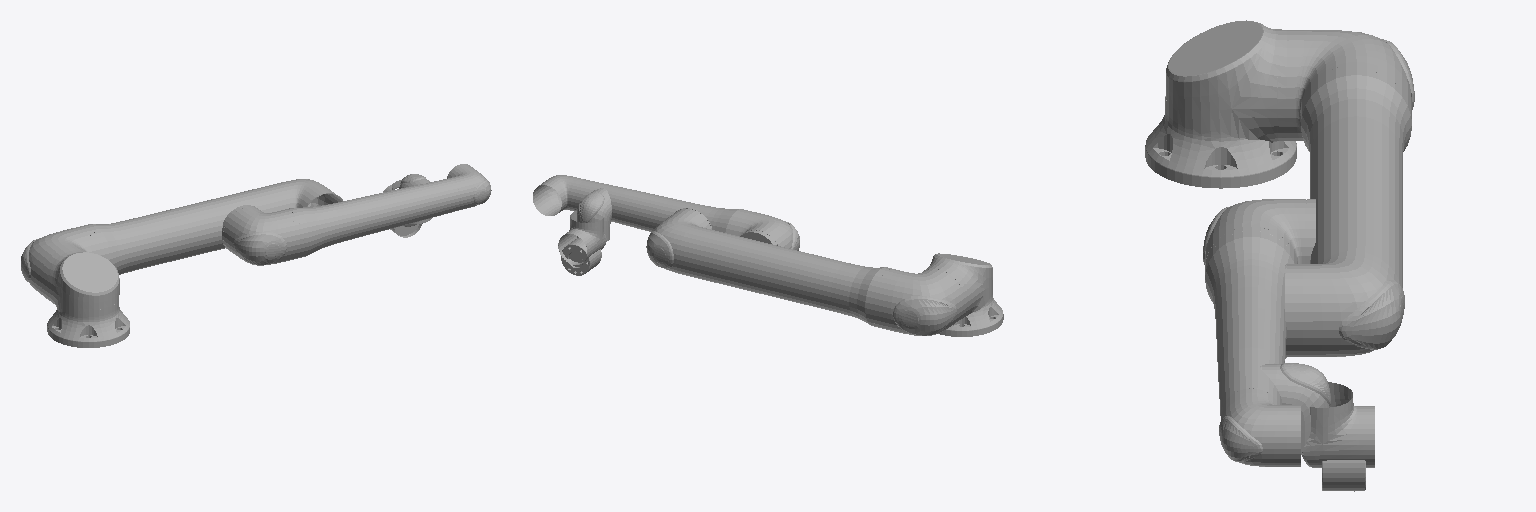
robot.urdf — ur10_robot:
<?xml version="1.0" ?>
<!-- =================================================================================== -->
<!-- |    This document was autogenerated by xacro from ur10.xacro                     | -->
<!-- |    EDITING THIS FILE BY HAND IS NOT RECOMMENDED                                 | -->
<!-- =================================================================================== -->
<robot name="ur10_robot">
  <!--
    Base UR robot series xacro macro.

    NOTE: this is NOT a URDF. It cannot directly be loaded by consumers
    expecting a flattened '.urdf' file. See the top-level '.xacro' for that
    (but note: that .xacro must still be processed by the xacro command).

    For use in '.launch' files: use one of the 'load_urX.launch' convenience
    launch files.

    This file models the base kinematic chain of a UR robot, which then gets
    parameterised by various configuration files to convert it into a UR3(e),
    UR5(e), UR10(e) or UR16e.

    NOTE: the default kinematic parameters (ie: link lengths, frame locations,
    offets, etc) do not correspond to any particular robot. They are defaults
    only. There WILL be non-zero offsets between the Forward Kinematics results
    in TF (ie: robot_state_publisher) and the values reported by the Teach
    Pendant.

    For accurate (and robot-specific) transforms, the 'kinematics_parameters_file'
    parameter MUST point to a .yaml file containing the appropriate values for
    the targetted robot.

    If using the UniversalRobots/Universal_Robots_ROS_Driver, follow the steps
    described in the readme of that repository to extract the kinematic
    calibration from the controller and generate the required .yaml file.

    Main author of the migration to yaml configs: Ludovic Delval.

    Contributors to previous versions (in no particular order):

     - Felix Messmer
     - Kelsey Hawkins
     - Wim Meeussen
     - Shaun Edwards
     - Nadia Hammoudeh Garcia
     - Dave Hershberger
     - G. vd. Hoorn
     - Philip Long
     - Dave Coleman
     - Miguel Prada
     - Mathias Luedtke
     - Marcel Schnirring
     - Felix von Drigalski
     - Felix Exner
     - Jimmy Da Silva
     - Ajit Krisshna N L
     - Muhammad Asif Rana
  -->
  <!--
    NOTE: the macro defined in this file is NOT part of the public API of this
          package. Users CANNOT rely on this file being available, or stored in
          this location. Nor can they rely on the existence of the macro.
  -->
  <transmission name="shoulder_pan_trans">
    <type>transmission_interface/SimpleTransmission</type>
    <joint name="shoulder_pan_joint">
      <hardwareInterface>hardware_interface/PositionJointInterface</hardwareInterface>
    </joint>
    <actuator name="shoulder_pan_motor">
      <mechanicalReduction>1</mechanicalReduction>
    </actuator>
  </transmission>
  <transmission name="shoulder_lift_trans">
    <type>transmission_interface/SimpleTransmission</type>
    <joint name="shoulder_lift_joint">
      <hardwareInterface>hardware_interface/PositionJointInterface</hardwareInterface>
    </joint>
    <actuator name="shoulder_lift_motor">
      <mechanicalReduction>1</mechanicalReduction>
    </actuator>
  </transmission>
  <transmission name="elbow_trans">
    <type>transmission_interface/SimpleTransmission</type>
    <joint name="elbow_joint">
      <hardwareInterface>hardware_interface/PositionJointInterface</hardwareInterface>
    </joint>
    <actuator name="elbow_motor">
      <mechanicalReduction>1</mechanicalReduction>
    </actuator>
  </transmission>
  <transmission name="wrist_1_trans">
    <type>transmission_interface/SimpleTransmission</type>
    <joint name="wrist_1_joint">
      <hardwareInterface>hardware_interface/PositionJointInterface</hardwareInterface>
    </joint>
    <actuator name="wrist_1_motor">
      <mechanicalReduction>1</mechanicalReduction>
    </actuator>
  </transmission>
  <transmission name="wrist_2_trans">
    <type>transmission_interface/SimpleTransmission</type>
    <joint name="wrist_2_joint">
      <hardwareInterface>hardware_interface/PositionJointInterface</hardwareInterface>
    </joint>
    <actuator name="wrist_2_motor">
      <mechanicalReduction>1</mechanicalReduction>
    </actuator>
  </transmission>
  <transmission name="wrist_3_trans">
    <type>transmission_interface/SimpleTransmission</type>
    <joint name="wrist_3_joint">
      <hardwareInterface>hardware_interface/PositionJointInterface</hardwareInterface>
    </joint>
    <actuator name="wrist_3_motor">
      <mechanicalReduction>1</mechanicalReduction>
    </actuator>
  </transmission>
  <!-- links: main serial chain -->
  <link name="base_link"/>
  <link name="base_link_inertia">
    <visual>
      <origin rpy="0 0 3.141592653589793" xyz="0 0 0"/>
      <geometry>
        <mesh filename="package://example-robot-data/robots/universal_robots/meshes_description/ur10/visual/base.dae"/>
      </geometry>
      <material name="LightGrey">
        <color rgba="0.7 0.7 0.7 1.0"/>
      </material>
    </visual>
    <collision>
      <origin rpy="0 0 3.141592653589793" xyz="0 0 0"/>
      <geometry>
        <mesh filename="package://example-robot-data/robots/universal_robots/meshes_description/ur10/collision/base.stl"/>
      </geometry>
    </collision>
    <inertial>
      <mass value="4.0"/>
      <origin rpy="0 0 0" xyz="0 0 0"/>
      <inertia ixx="0.0061063308908" ixy="0.0" ixz="0.0" iyy="0.0061063308908" iyz="0.0" izz="0.01125"/>
    </inertial>
  </link>
  <link name="shoulder_link">
    <visual>
      <origin rpy="0 0 3.141592653589793" xyz="0 0 0"/>
      <geometry>
        <mesh filename="package://example-robot-data/robots/universal_robots/meshes_description/ur10/visual/shoulder.dae"/>
      </geometry>
      <material name="LightGrey">
        <color rgba="0.7 0.7 0.7 1.0"/>
      </material>
    </visual>
    <collision>
      <origin rpy="0 0 3.141592653589793" xyz="0 0 0"/>
      <geometry>
        <mesh filename="package://example-robot-data/robots/universal_robots/meshes_description/ur10/collision/shoulder.stl"/>
      </geometry>
    </collision>
    <inertial>
      <mass value="7.778"/>
      <origin rpy="0 0 0" xyz="0 0 0"/>
      <inertia ixx="0.03147431257693659" ixy="0.0" ixz="0.0" iyy="0.03147431257693659" iyz="0.0" izz="0.021875624999999996"/>
    </inertial>
  </link>
  <link name="upper_arm_link">
    <visual>
      <origin rpy="1.5707963267948966 0 -1.5707963267948966" xyz="0 0 0.220941"/>
      <geometry>
        <mesh filename="package://example-robot-data/robots/universal_robots/meshes_description/ur10/visual/upperarm.dae"/>
      </geometry>
      <material name="LightGrey">
        <color rgba="0.7 0.7 0.7 1.0"/>
      </material>
    </visual>
    <collision>
      <origin rpy="1.5707963267948966 0 -1.5707963267948966" xyz="0 0 0.220941"/>
      <geometry>
        <mesh filename="package://example-robot-data/robots/universal_robots/meshes_description/ur10/collision/upperarm.stl"/>
      </geometry>
    </collision>
    <inertial>
      <mass value="12.93"/>
      <origin rpy="0 1.5707963267948966 0" xyz="-0.306 0.0 0.175"/>
      <inertia ixx="0.42175380379841093" ixy="0.0" ixz="0.0" iyy="0.42175380379841093" iyz="0.0" izz="0.03636562499999999"/>
    </inertial>
  </link>
  <link name="forearm_link">
    <visual>
      <origin rpy="1.5707963267948966 0 -1.5707963267948966" xyz="0 0 0.049042"/>
      <geometry>
        <mesh filename="package://example-robot-data/robots/universal_robots/meshes_description/ur10/visual/forearm.dae"/>
      </geometry>
      <material name="LightGrey">
        <color rgba="0.7 0.7 0.7 1.0"/>
      </material>
    </visual>
    <collision>
      <origin rpy="1.5707963267948966 0 -1.5707963267948966" xyz="0 0 0.049042"/>
      <geometry>
        <mesh filename="package://example-robot-data/robots/universal_robots/meshes_description/ur10/collision/forearm.stl"/>
      </geometry>
    </collision>
    <inertial>
      <mass value="3.87"/>
      <origin rpy="0 1.5707963267948966 0" xyz="-0.28615 0.0 0.049042"/>
      <inertia ixx="0.11106969409710458" ixy="0.0" ixz="0.0" iyy="0.11106969409710458" iyz="0.0" izz="0.010884375"/>
    </inertial>
  </link>
  <link name="wrist_1_link">
    <visual>
      <!-- TODO: Move this to a parameter -->
      <origin rpy="1.5707963267948966 0 0" xyz="0 0 -0.1149"/>
      <geometry>
        <mesh filename="package://example-robot-data/robots/universal_robots/meshes_description/ur10/visual/wrist1.dae"/>
      </geometry>
      <material name="LightGrey">
        <color rgba="0.7 0.7 0.7 1.0"/>
      </material>
    </visual>
    <collision>
      <origin rpy="1.5707963267948966 0 0" xyz="0 0 -0.1149"/>
      <geometry>
        <mesh filename="package://example-robot-data/robots/universal_robots/meshes_description/ur10/collision/wrist1.stl"/>
      </geometry>
    </collision>
    <inertial>
      <mass value="1.96"/>
      <origin rpy="0 0 0" xyz="0 0 0"/>
      <inertia ixx="0.005108247956699999" ixy="0.0" ixz="0.0" iyy="0.005108247956699999" iyz="0.0" izz="0.005512499999999999"/>
    </inertial>
  </link>
  <link name="wrist_2_link">
    <visual>
      <origin rpy="0 0 0" xyz="0 0 -0.1158"/>
      <geometry>
        <mesh filename="package://example-robot-data/robots/universal_robots/meshes_description/ur10/visual/wrist2.dae"/>
      </geometry>
      <material name="LightGrey">
        <color rgba="0.7 0.7 0.7 1.0"/>
      </material>
    </visual>
    <collision>
      <origin rpy="0 0 0" xyz="0 0 -0.1158"/>
      <geometry>
        <mesh filename="package://example-robot-data/robots/universal_robots/meshes_description/ur10/collision/wrist2.stl"/>
      </geometry>
    </collision>
    <inertial>
      <mass value="1.96"/>
      <origin rpy="0 0 0" xyz="0 0 0"/>
      <inertia ixx="0.0040792483683" ixy="0.0" ixz="0.0" iyy="0.0040792483683" iyz="0.0" izz="0.005512499999999999"/>
    </inertial>
  </link>
  <link name="wrist_3_link">
    <visual>
      <origin rpy="1.5707963267948966 0 0" xyz="0 0 -0.0922"/>
      <geometry>
        <mesh filename="package://example-robot-data/robots/universal_robots/meshes_description/ur10/visual/wrist3.dae"/>
      </geometry>
      <material name="LightGrey">
        <color rgba="0.7 0.7 0.7 1.0"/>
      </material>
    </visual>
    <collision>
      <origin rpy="1.5707963267948966 0 0" xyz="0 0 -0.0922"/>
      <geometry>
        <mesh filename="package://example-robot-data/robots/universal_robots/meshes_description/ur10/collision/wrist3.stl"/>
      </geometry>
    </collision>
    <inertial>
      <mass value="0.202"/>
      <origin rpy="0 0 0" xyz="0.0 0.0 -0.01525"/>
      <inertia ixx="0.00011792166116465" ixy="0.0" ixz="0.0" iyy="0.00011792166116465" iyz="0.0" izz="0.00020452500000000002"/>
    </inertial>
  </link>
  <!-- joints: main serial chain -->
  <joint name="base_link-base_link_inertia" type="fixed">
    <parent link="base_link"/>
    <child link="base_link_inertia"/>
    <!-- 'base_link' is REP-103 aligned (so X+ forward), while the internal
           frames of the robot/controller have X+ pointing backwards.
           Use the joint between 'base_link' and 'base_link_inertia' (a dummy
           link/frame) to introduce the necessary rotation over Z (of pi rad).
      -->
    <origin rpy="0 0 3.141592653589793" xyz="0 0 0"/>
  </joint>
  <joint name="shoulder_pan_joint" type="revolute">
    <parent link="base_link_inertia"/>
    <child link="shoulder_link"/>
    <origin rpy="0 0 0" xyz="0 0 0.1273"/>
    <axis xyz="0 0 1"/>
    <limit effort="330.0" lower="-6.283185307179586" upper="6.283185307179586" velocity="2.0943951023931953"/>
    <dynamics damping="0" friction="0"/>
  </joint>
  <joint name="shoulder_lift_joint" type="revolute">
    <parent link="shoulder_link"/>
    <child link="upper_arm_link"/>
    <origin rpy="1.570796327 0 0" xyz="0 0 0"/>
    <axis xyz="0 0 1"/>
    <limit effort="330.0" lower="-6.283185307179586" upper="6.283185307179586" velocity="2.0943951023931953"/>
    <dynamics damping="0" friction="0"/>
  </joint>
  <joint name="elbow_joint" type="revolute">
    <parent link="upper_arm_link"/>
    <child link="forearm_link"/>
    <origin rpy="0 0 0" xyz="-0.612 0 0"/>
    <axis xyz="0 0 1"/>
    <limit effort="150.0" lower="-3.141592653589793" upper="3.141592653589793" velocity="3.141592653589793"/>
    <dynamics damping="0" friction="0"/>
  </joint>
  <joint name="wrist_1_joint" type="revolute">
    <parent link="forearm_link"/>
    <child link="wrist_1_link"/>
    <origin rpy="0 0 0" xyz="-0.5723 0 0.163941"/>
    <axis xyz="0 0 1"/>
    <limit effort="56.0" lower="-6.283185307179586" upper="6.283185307179586" velocity="3.141592653589793"/>
    <dynamics damping="0" friction="0"/>
  </joint>
  <joint name="wrist_2_joint" type="revolute">
    <parent link="wrist_1_link"/>
    <child link="wrist_2_link"/>
    <origin rpy="1.570796327 0 0" xyz="0 -0.1157 -2.373046667922381e-11"/>
    <axis xyz="0 0 1"/>
    <limit effort="56.0" lower="-6.283185307179586" upper="6.283185307179586" velocity="3.141592653589793"/>
    <dynamics damping="0" friction="0"/>
  </joint>
  <joint name="wrist_3_joint" type="revolute">
    <parent link="wrist_2_link"/>
    <child link="wrist_3_link"/>
    <origin rpy="1.570796326589793 3.141592653589793 3.141592653589793" xyz="0 0.0922 -1.891053610911353e-11"/>
    <axis xyz="0 0 1"/>
    <limit effort="56.0" lower="-6.283185307179586" upper="6.283185307179586" velocity="3.141592653589793"/>
    <dynamics damping="0" friction="0"/>
  </joint>
  <!-- ROS-Industrial 'base' frame: base_link to UR 'Base' Coordinates transform -->
  <link name="base"/>
  <joint name="base_link-base_fixed_joint" type="fixed">
    <!-- Note the rotation over Z of pi radians: as base_link is REP-103
           aligned (ie: has X+ forward, Y+ left and Z+ up), this is needed
           to correctly align 'base' with the 'Base' coordinate system of
           the UR controller.
      -->
    <origin rpy="0 0 3.141592653589793" xyz="0 0 0"/>
    <parent link="base_link"/>
    <child link="base"/>
  </joint>
  <!-- ROS-Industrial 'flange' frame: attachment point for EEF models -->
  <link name="flange"/>
  <joint name="wrist_3-flange" type="fixed">
    <parent link="wrist_3_link"/>
    <child link="flange"/>
    <origin rpy="0 -1.5707963267948966 -1.5707963267948966" xyz="0 0 0"/>
  </joint>
  <!-- ROS-Industrial 'tool0' frame: all-zeros tool frame -->
  <link name="tool0"/>
  <joint name="flange-tool0" type="fixed">
    <!-- default toolframe: X+ left, Y+ up, Z+ front -->
    <origin rpy="1.5707963267948966 0 1.5707963267948966" xyz="0 0 0"/>
    <parent link="flange"/>
    <child link="tool0"/>
  </joint>
</robot>

--- Render facts (derived) ---
The picture shows the robot from 3 angles, left to right: view 1: azimuth 30°, elevation 25°; view 2: azimuth 150°, elevation 25°; view 3: azimuth 270°, elevation 25°; orthographic projection.
Model ur10_robot with 11 links and 10 joints (6 revolute, 4 fixed), rooted at base_link, posed all joints at 0.
Visible links, largest first — view 1: forearm_link, upper_arm_link, shoulder_link, base_link_inertia; view 2: upper_arm_link, forearm_link, shoulder_link, base_link_inertia, wrist_2_link, wrist_1_link, wrist_3_link; view 3: upper_arm_link, forearm_link, shoulder_link, base_link_inertia, wrist_2_link, wrist_1_link, wrist_3_link.
Boxes of the visible links, bbox=[...] form: forearm_link: bbox=[222, 164, 491, 265]; upper_arm_link: bbox=[21, 179, 342, 303]; shoulder_link: bbox=[40, 247, 119, 317]; base_link_inertia: bbox=[47, 303, 129, 347]; upper_arm_link: bbox=[646, 208, 971, 335]; forearm_link: bbox=[533, 175, 799, 250]; shoulder_link: bbox=[924, 253, 992, 318]; base_link_inertia: bbox=[939, 295, 1003, 336]; wrist_2_link: bbox=[558, 211, 606, 264]; wrist_1_link: bbox=[577, 188, 611, 240]; wrist_3_link: bbox=[561, 237, 601, 275]; upper_arm_link: bbox=[1277, 30, 1414, 357]; forearm_link: bbox=[1203, 199, 1315, 466]; shoulder_link: bbox=[1166, 20, 1303, 142]; base_link_inertia: bbox=[1145, 96, 1296, 188]; wrist_2_link: bbox=[1302, 382, 1374, 467]; wrist_1_link: bbox=[1260, 363, 1330, 454]; wrist_3_link: bbox=[1322, 460, 1365, 491].
Size in the robot's own frame: 1.52 by 0.4354 by 0.2682 metres.
7 mesh visuals loaded from 7 distinct referenced files (7 Collada DAE).
